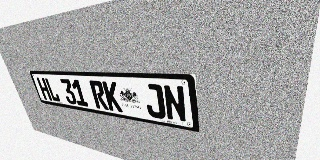1: (70, 79, 88, 107)
3: (60, 79, 78, 105)
H: (36, 77, 52, 101)
J: (143, 83, 166, 119)
K: (102, 81, 123, 112)
L: (44, 78, 61, 102)
N: (162, 84, 187, 123)
R: (89, 80, 109, 110)
